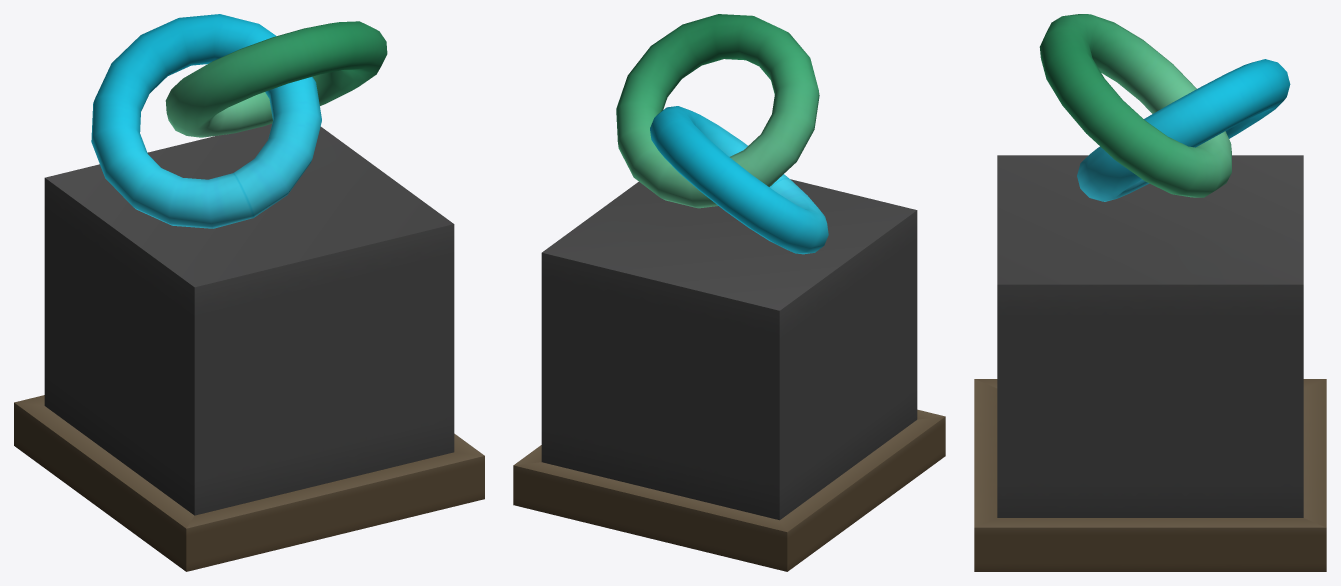
The picture shows the model from 3 angles, left to right: view 1: azimuth 30°, elevation 25°; view 2: azimuth 150°, elevation 25°; view 3: azimuth 270°, elevation 25°; orthographic projection. The views are drawn at different scales.
Visible parts, largest first — view 1: Item_A5; view 2: Item_A5; view 3: Item_A5.
Boxes of the visible parts, box(x1,y1,x2,y2) form: Item_A5: box(14, 14, 484, 571); Item_A5: box(513, 14, 945, 571); Item_A5: box(974, 14, 1326, 571).
Size of the model in its own units: 86.04 by 129 by 86.04.
